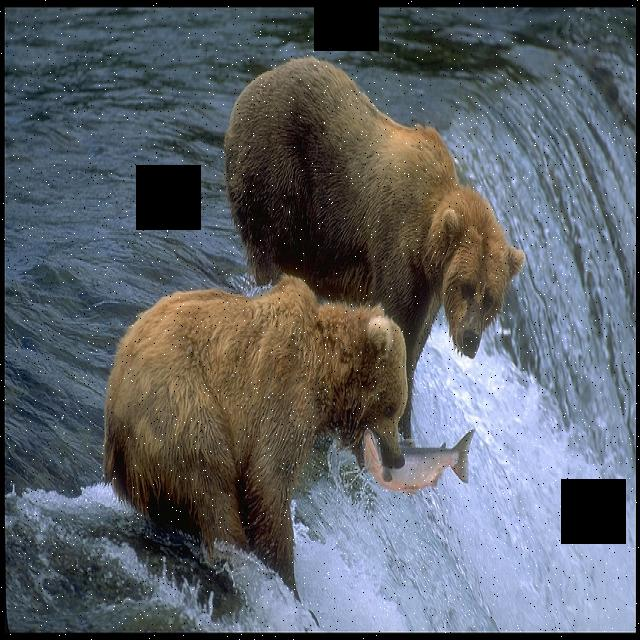Bear: (102, 282, 418, 598), (220, 52, 526, 374)
